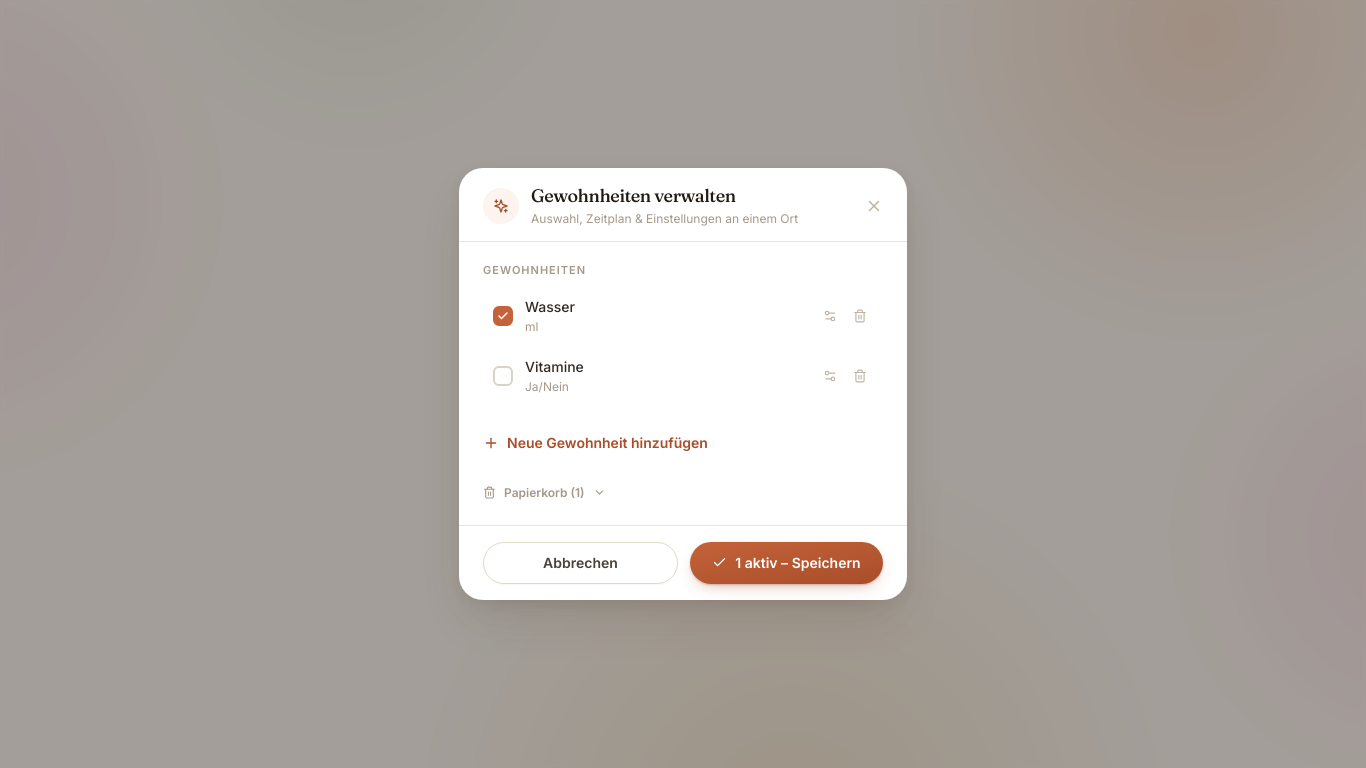
Test: ManageHabitsModal › warns about consequences when the type changes
Expected: the text "Wasser" is shown, x1=525 y1=297 x2=575 y2=317
Click the button named "Einstellungen" in the row of "Wasser": {"x": 830, "y": 316} x1=817 y1=303 x2=843 y2=329
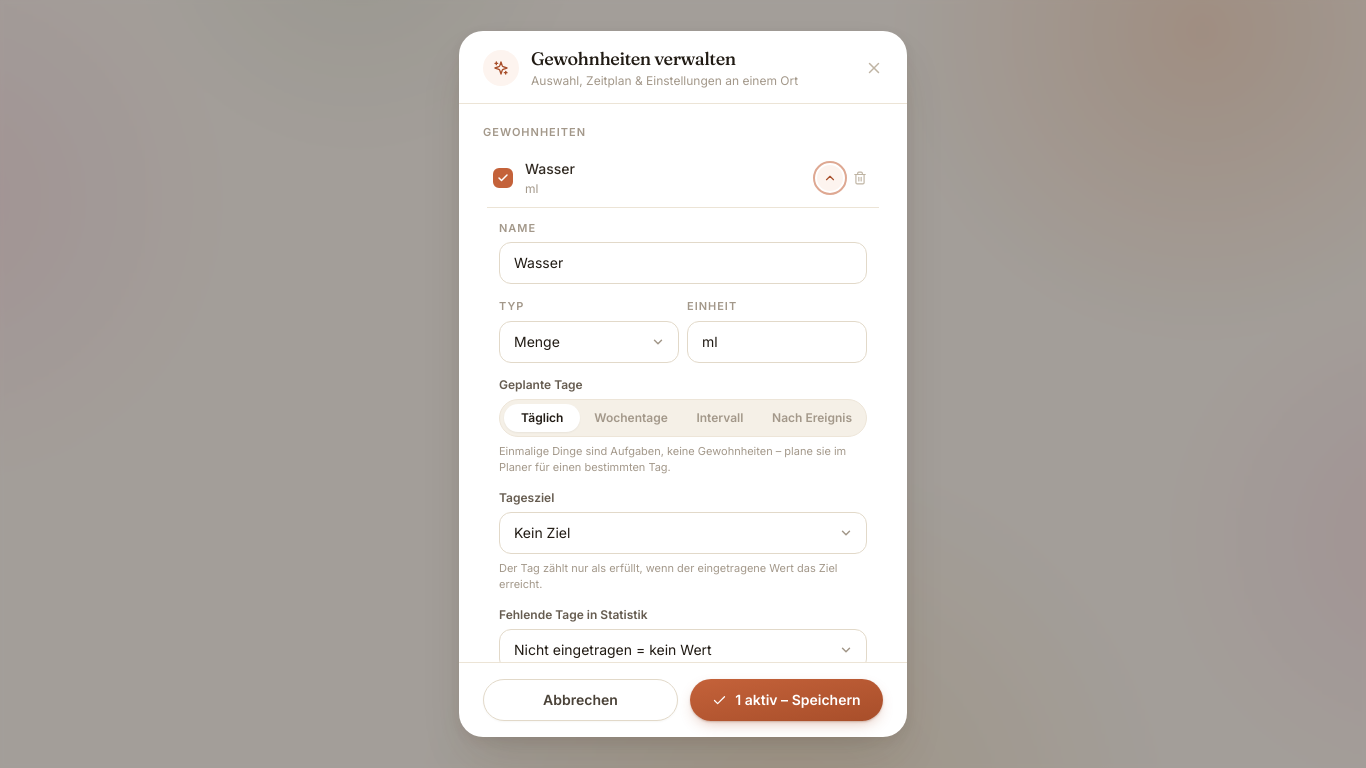
Select "Ja/Nein" in the dropdown showing "Menge" below "Typ": {"x": 589, "y": 342} x1=499 y1=321 x2=679 y2=363
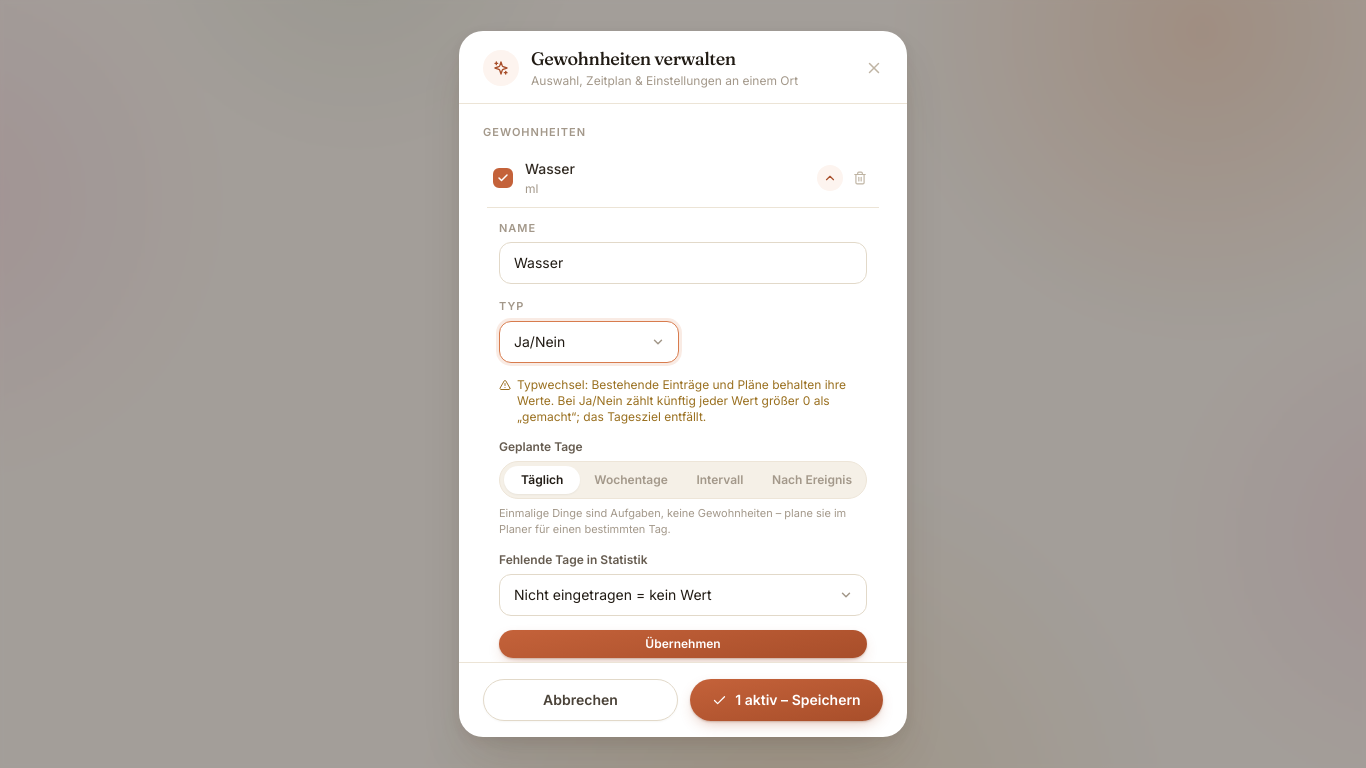
Now the text "Typwechsel" is shown, box x1=517 y1=377 x2=846 y2=408
Now the text "jeder Wert größer 0" is shown, box x1=517 y1=393 x2=830 y2=424
